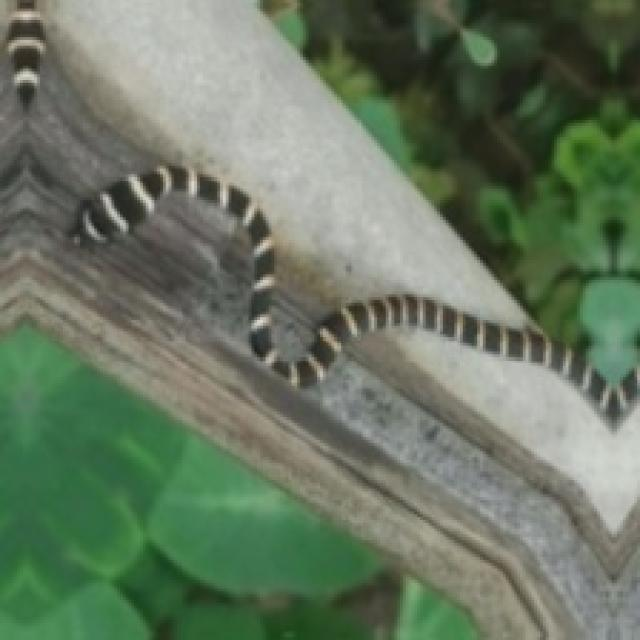paradise tree snake: (71, 166, 637, 423)
